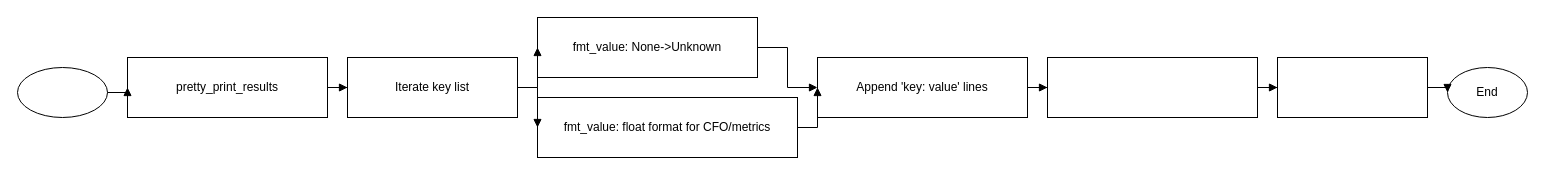
Some shapes in this 1545 by 175 pixel diagram are drawn without their labels. The box of each missing label's shape, as (x1, y1, x2, y2) in pixels:
Join lines with newline: (1046, 56, 1258, 118)
Return string: (1276, 56, 1428, 118)
Start: (16, 66, 108, 118)
